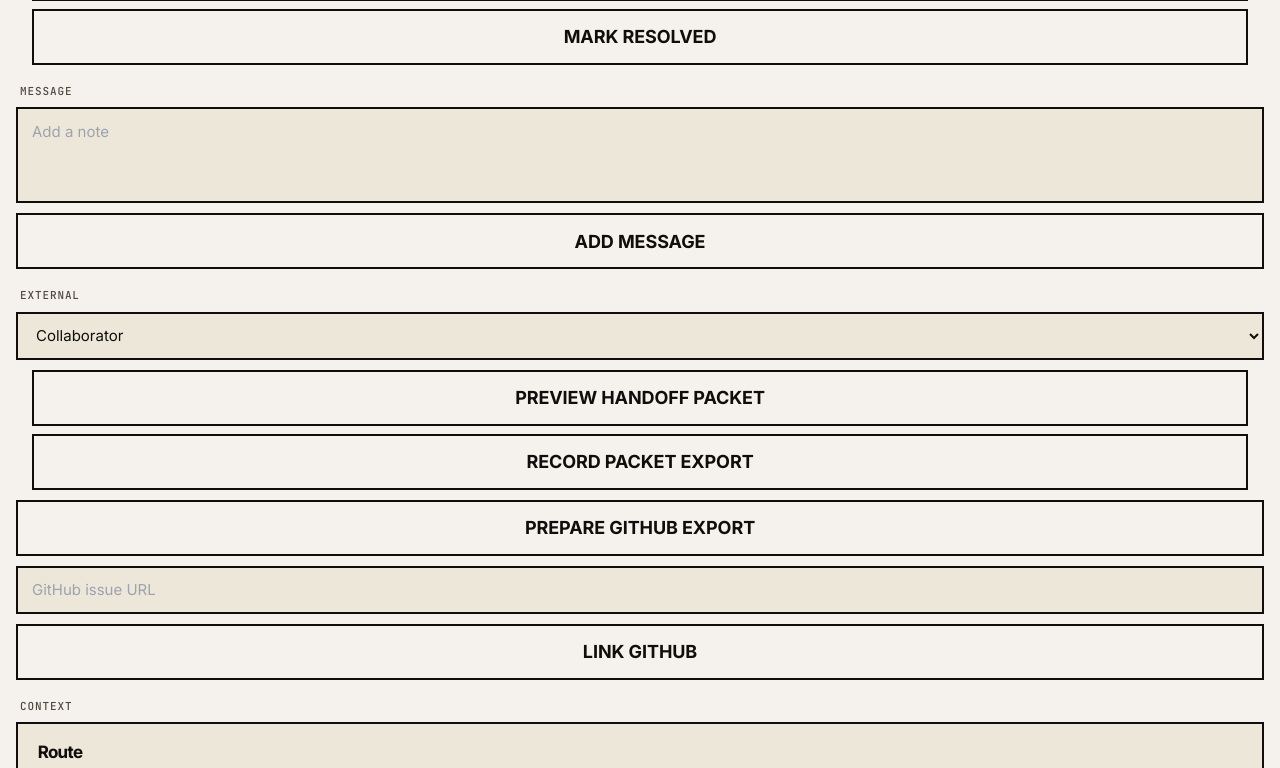
Test: MobileWorkRequestDetail › previews a collaborator-safe handoff packet from the work detail screen
The image size is (1280, 768).
(page scrolled)
Click the button "Preview handoff packet".
click(640, 398)  # box [32, 370, 1248, 426]
(page scrolled)
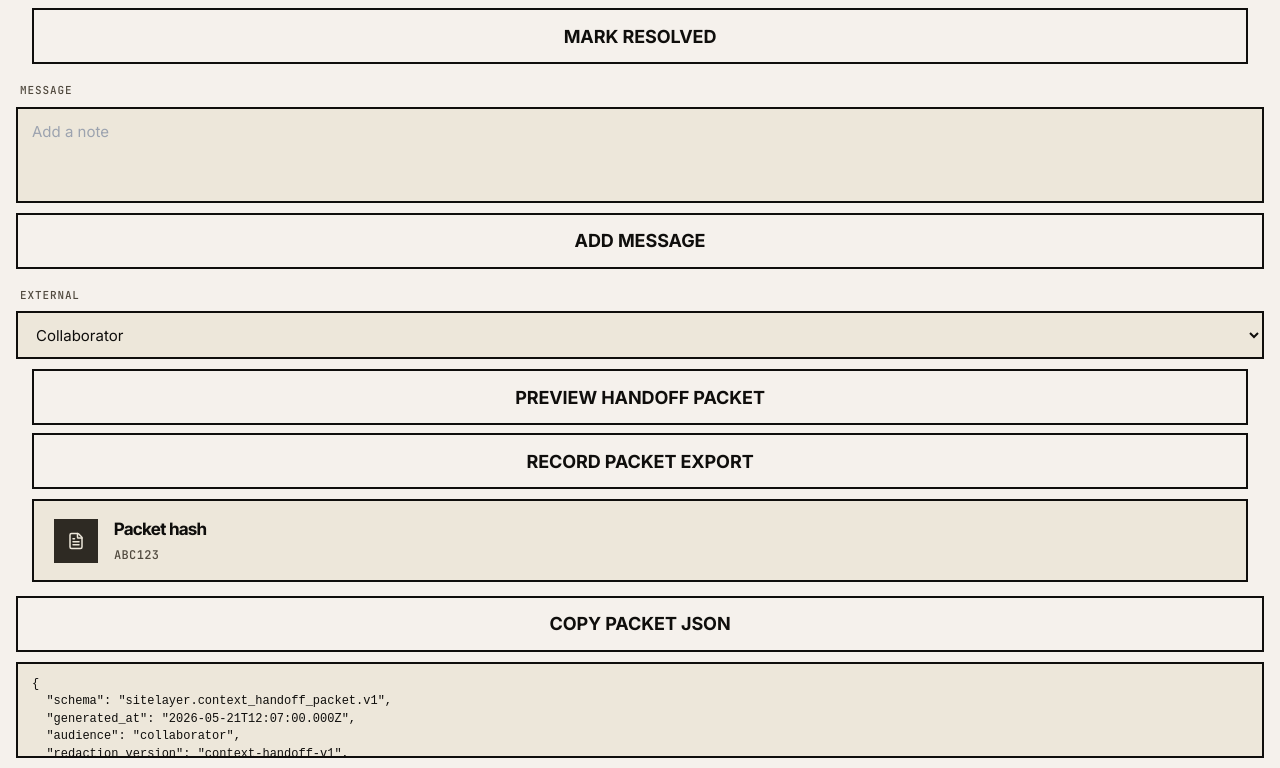
Check: the text "abc123" is shown, box [114, 547, 159, 563]
